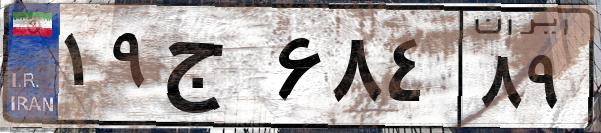1: (57, 26, 110, 100)
4: (385, 28, 445, 110)
6: (270, 28, 330, 110)
8: (330, 28, 385, 110), (475, 38, 525, 113)
9: (525, 38, 570, 115), (110, 28, 158, 98)
ج: (158, 20, 270, 120)
